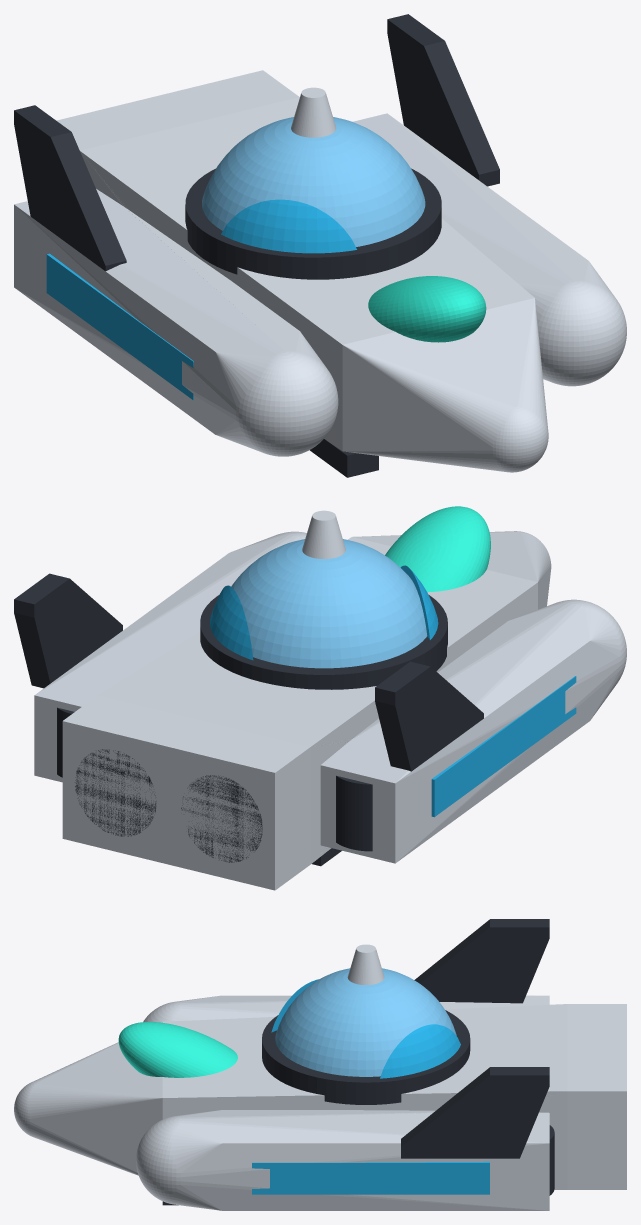
File: colony_ship.obj
3 renders of one model, top to bottom at view 1: azimuth 30°, elevation 25°; view 2: azimuth 150°, elevation 25°; view 3: azimuth 270°, elevation 25°, orthographic. The views are drawn at different scales.
Visible parts, largest first — view 1: colony_ship; view 2: colony_ship; view 3: colony_ship.
Boxes of the visible parts, x1,y1,x2,y2 form: colony_ship: (14, 14, 626, 477); colony_ship: (14, 506, 626, 890); colony_ship: (14, 919, 626, 1210).
Bounding box in the file's own units: 15.12 × 9.8 × 24.72.
